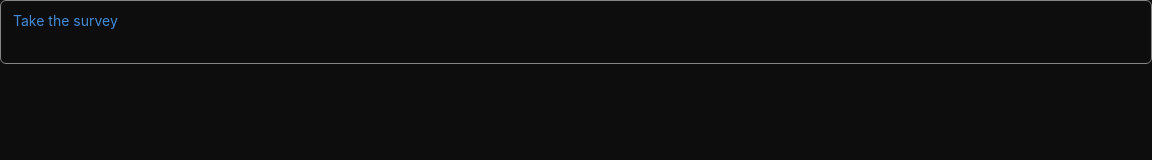
Scenario: TaskMarkdownNotes › switches a Markdown link between semantic navigation and active-line source editing
Later steps or results of the test are not shown.
Click the link "Take the survey" at (65, 20), box [13,12,118,29]
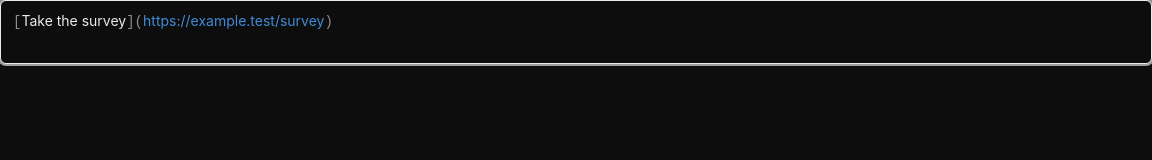
Expected: the link "[Take the survey](https://example.test/survey)" does not have class "text-info", [13,12,333,29]
